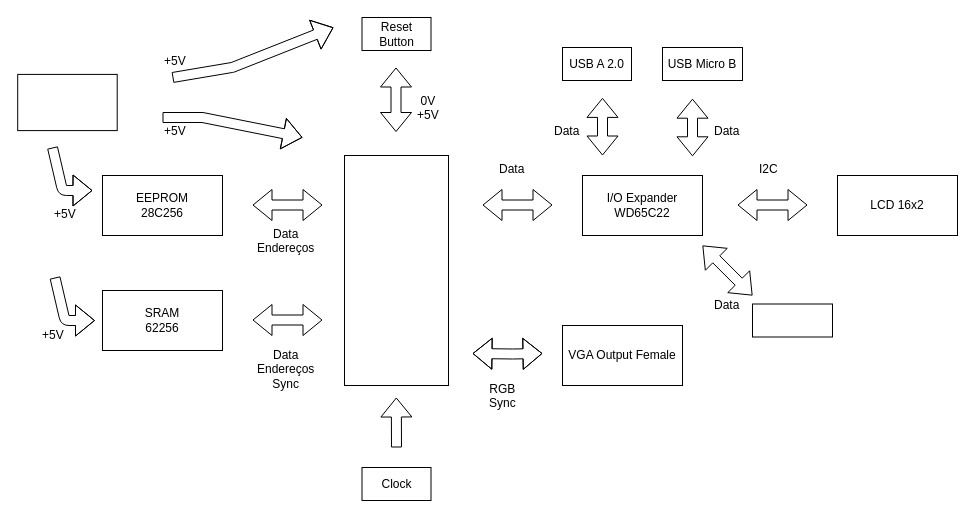
The diagram is 975 pixels wide and 518 high, and some of its shapes have lost their labels. The shapes that lost their labels are listed below. From the top down, each one's box as (x1, y1, x2, y2) in pixels, then its label:
(17, 73, 117, 131): PSU 230V AC para 5V DC
(344, 154, 448, 386): CPU W65C02
(752, 303, 832, 337): Type C
